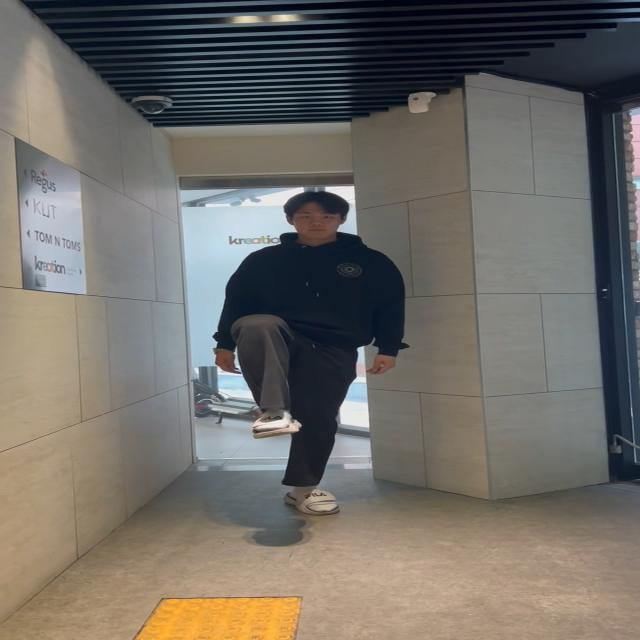knee: (196, 304, 319, 454)
